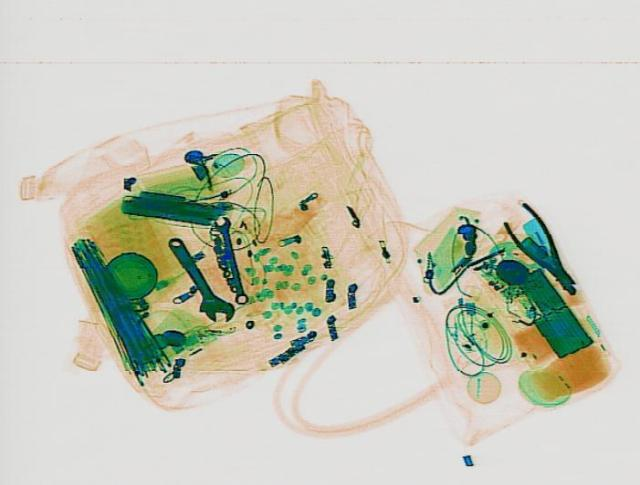Pliers: (490, 200, 598, 297)
Wrench: (158, 232, 240, 325), (210, 214, 250, 303)
